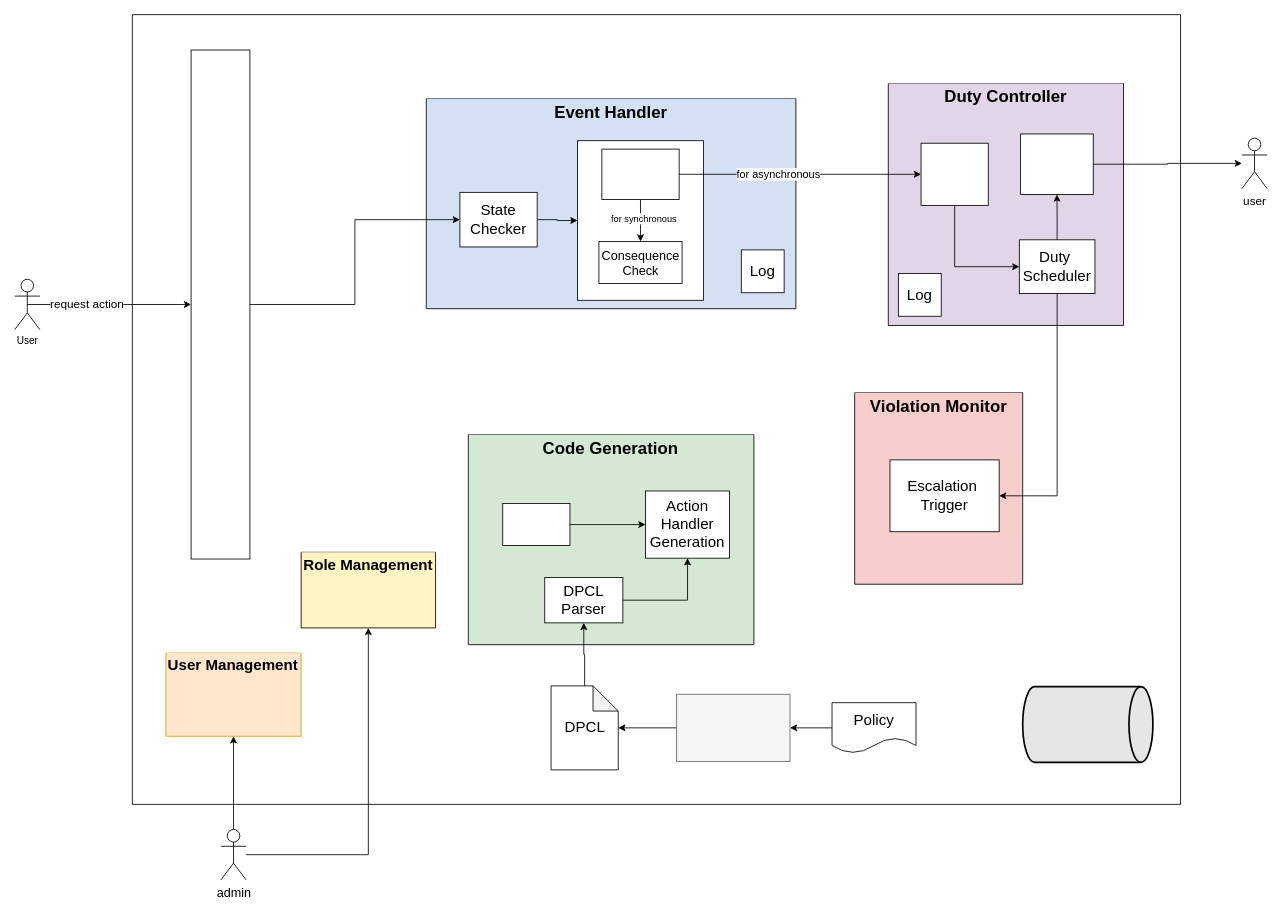
The diagram is 1282 pixels wide and 916 high, and some of its shapes have lost their labels. The shapes that lost their labels are listed below. From the top down, each one's centre as x and y in pixels, then its label:
At (640,174): "Action Handler".
At (954,173): "Duty Monitor".
At (1056,163): "Duty Notifier".
At (220,304): "API Gateway".
At (536,524): "Template".
At (733,727): "Meta Model".
At (1087,724): "Database".
